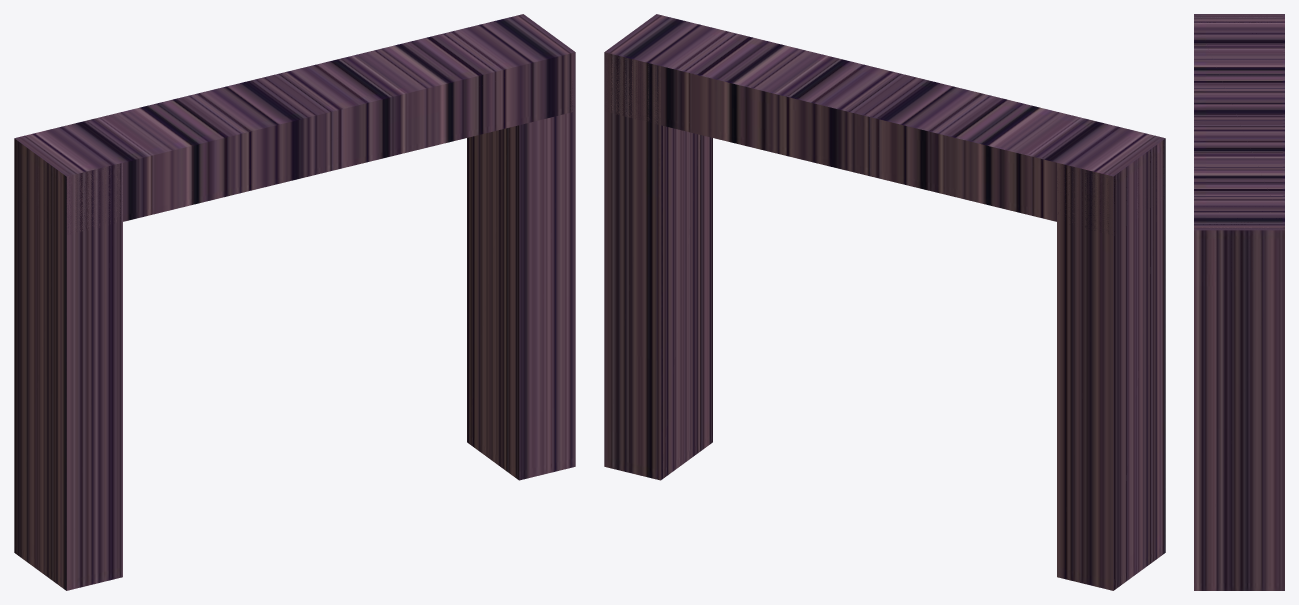
The model's file is obsidianArch.glb.
3 renders of one model, left to right at view 1: azimuth 30°, elevation 25°; view 2: azimuth 150°, elevation 25°; view 3: azimuth 270°, elevation 25°, orthographic. The views are drawn at different scales.
Parts seen in each view (by area): view 1: LOD0._kind_trim_band_obsidian_repeat; view 2: LOD0._kind_trim_band_obsidian_repeat; view 3: LOD0._kind_trim_band_obsidian_repeat.
Boxes of the visible parts, x1,y1,x2,y2 form: LOD0._kind_trim_band_obsidian_repeat: (14,14,575,590); LOD0._kind_trim_band_obsidian_repeat: (604,14,1165,590); LOD0._kind_trim_band_obsidian_repeat: (1194,14,1284,590).
Size of what is drawn, in the model's own units: 90 by 70 by 16.
Materials: 2 (2 with a texture image).
